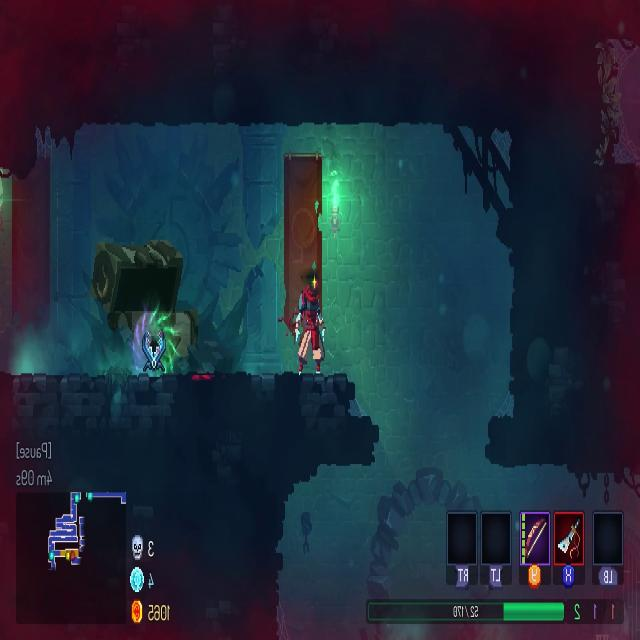agents: (297, 276, 326, 373)
